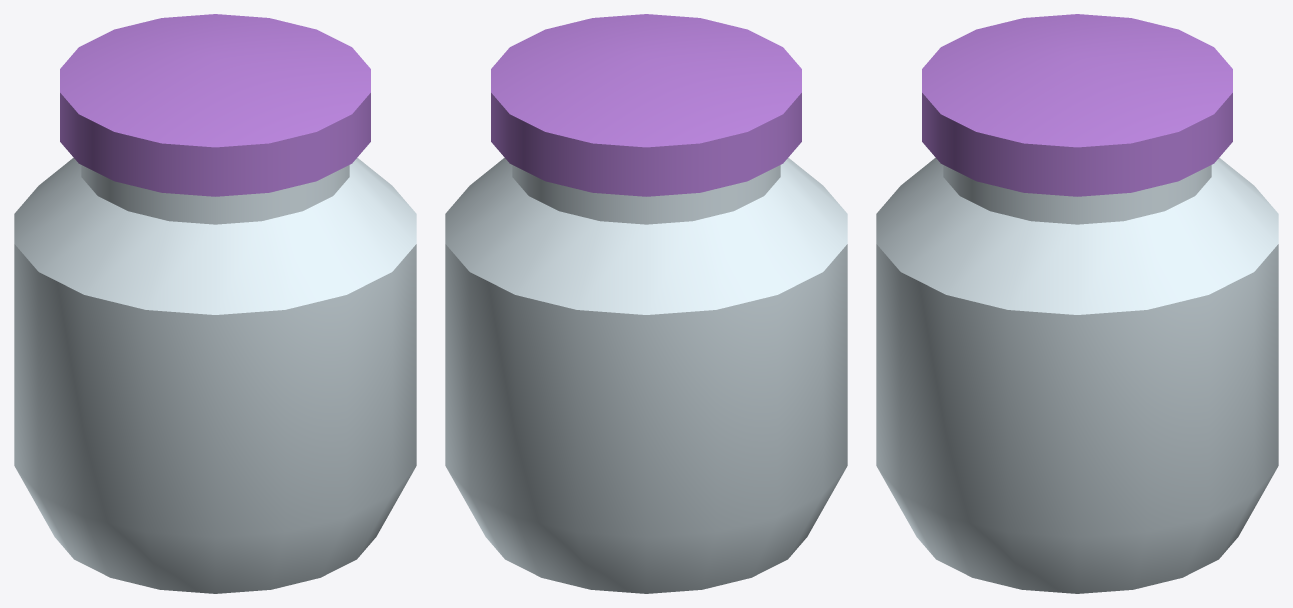
Rendered from CandyJar_A.fbx.
3 renders of one model, left to right at view 1: azimuth 30°, elevation 25°; view 2: azimuth 150°, elevation 25°; view 3: azimuth 270°, elevation 25°, orthographic.
Visible parts, largest first — view 1: CandyJar_A; view 2: CandyJar_A; view 3: CandyJar_A.
Part boxes in pixels (x1=…): CandyJar_A: x1=14, y1=14, x2=416, y2=593; CandyJar_A: x1=445, y1=14, x2=847, y2=593; CandyJar_A: x1=876, y1=14, x2=1278, y2=593.
Bounding box in the file's own units: 1.5 × 1.9 × 1.48.
